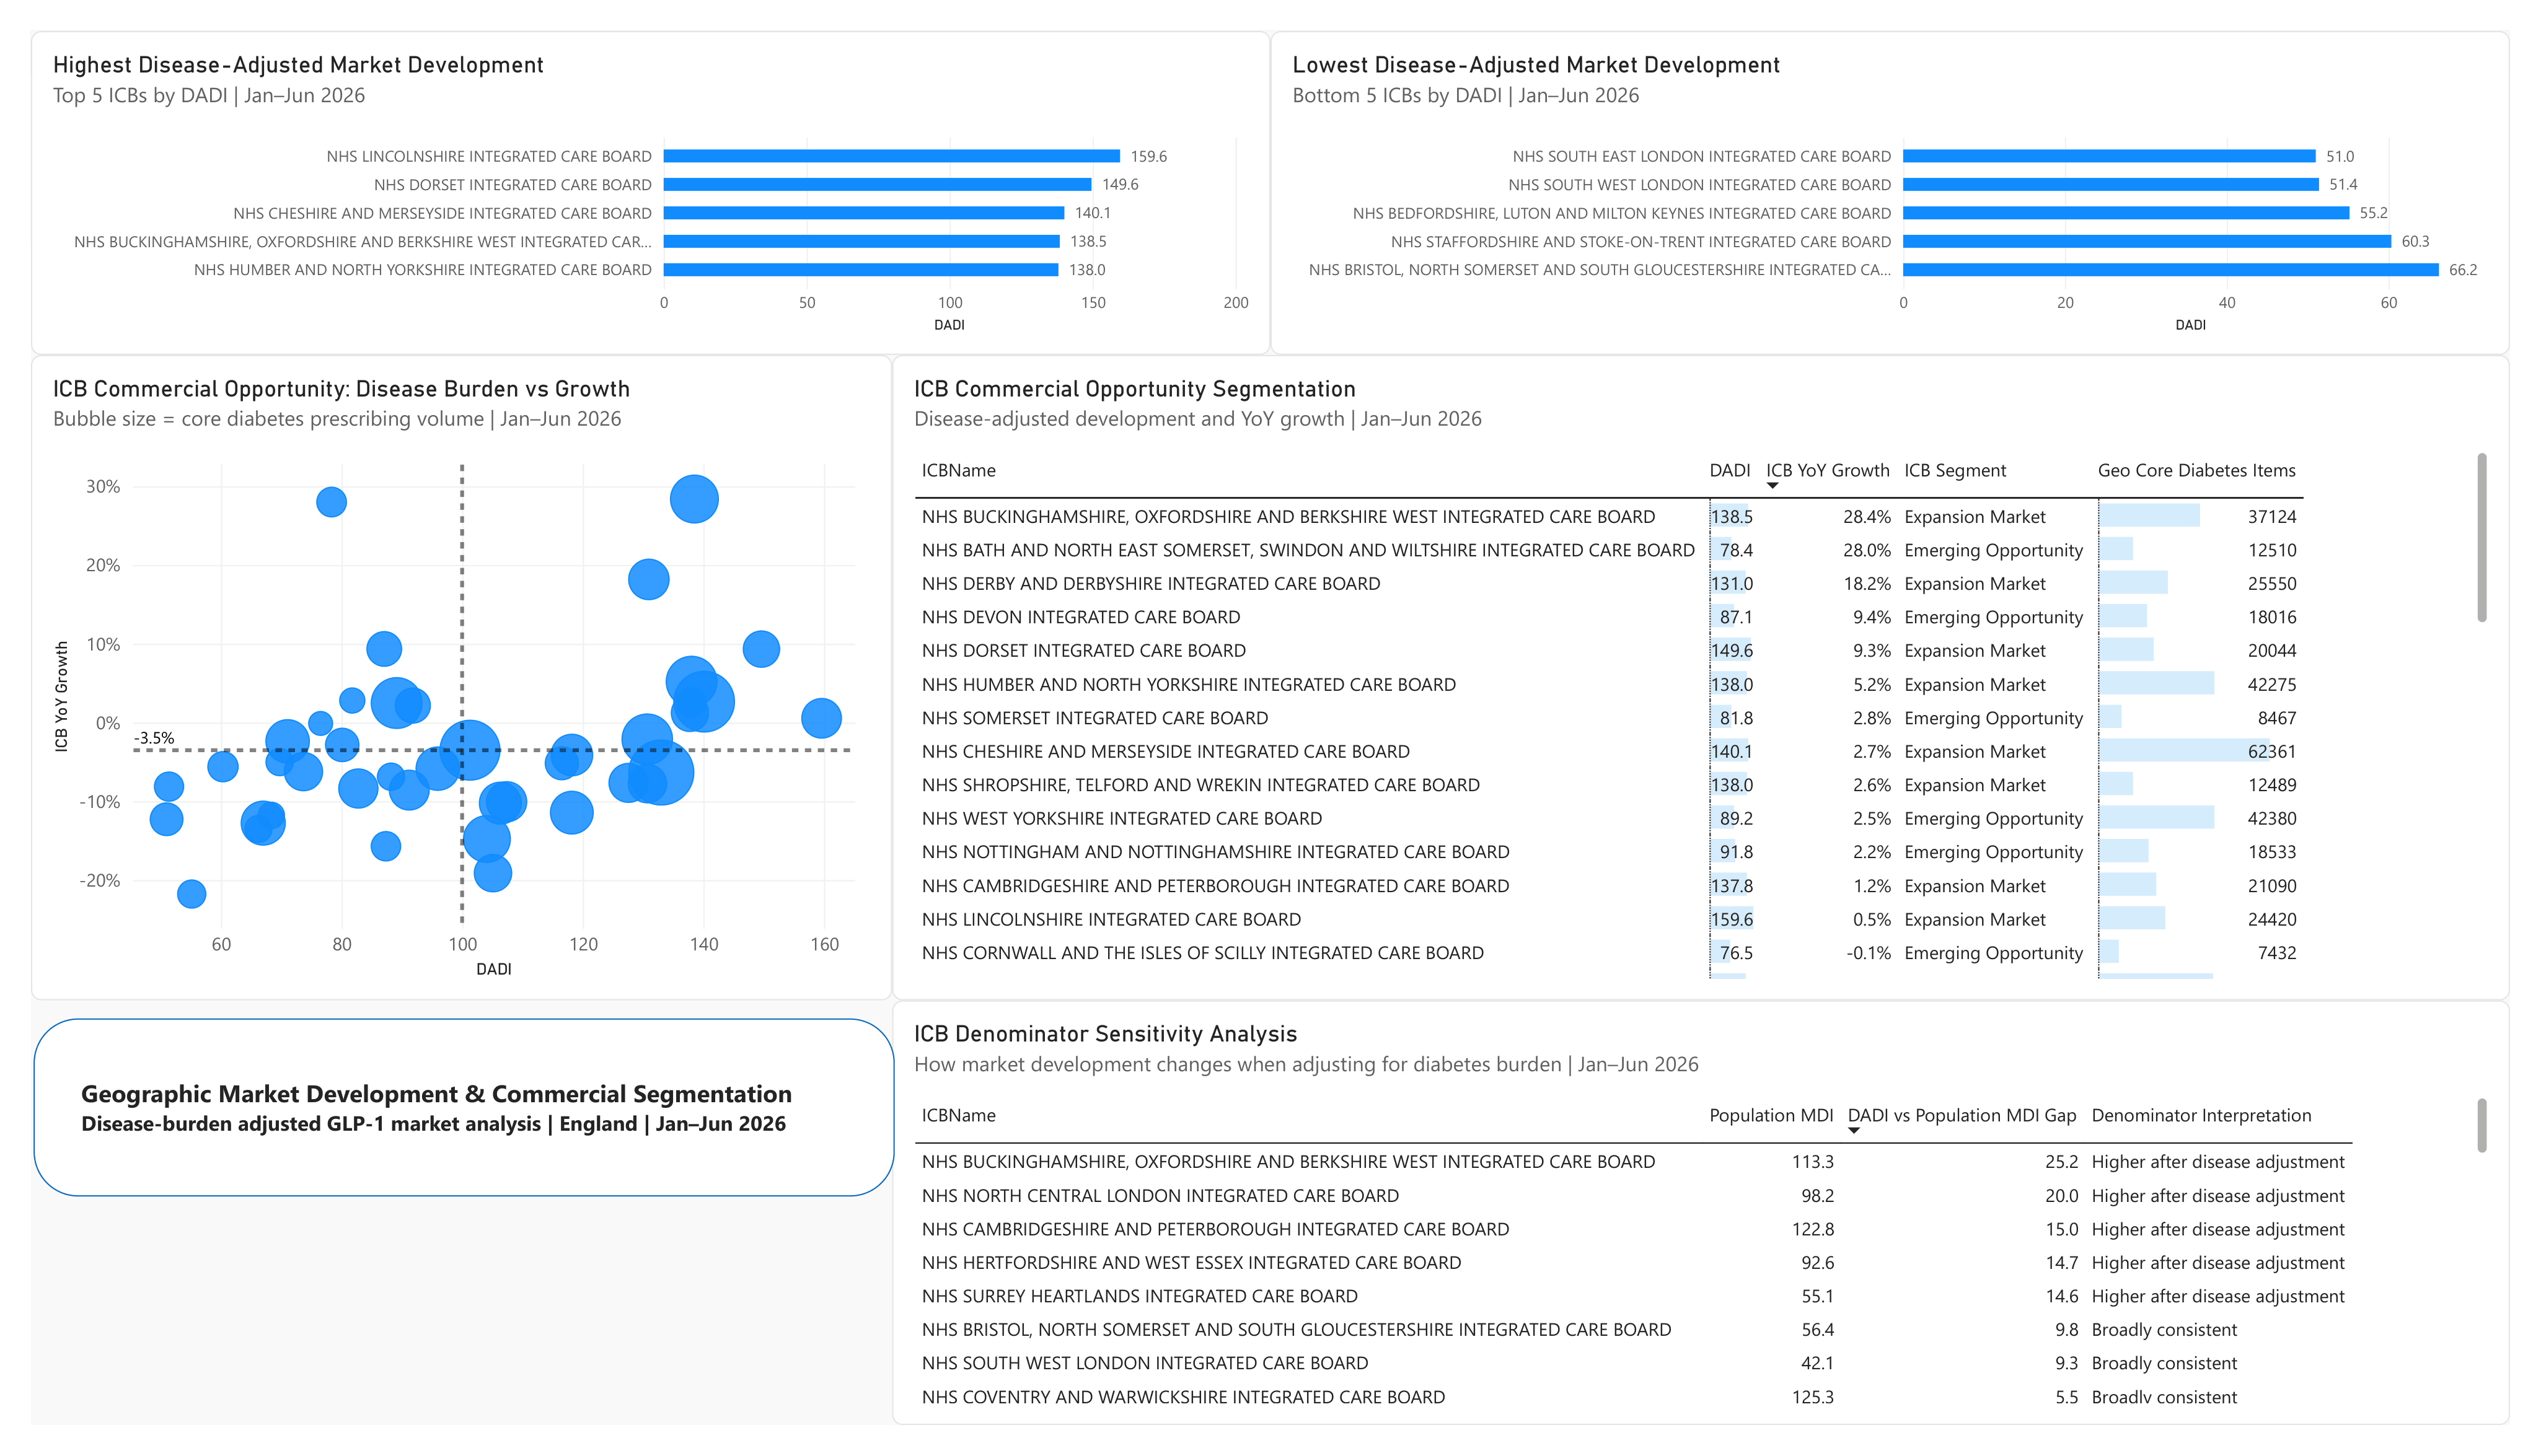

The page's visual inventory and layout, read from the dashboard file:
{"tool":"powerbi","page":{"name":"Geographic Opportunity","canvas":[1920,1080],"ordinal":1},"visuals":[{"type":"scatterChart","title":"ICB Commercial Opportunity: Disease Burden vs Growth","fields":{"Category":["Dim_Practice.ICBName"],"Size":["Measure Table.Geo Core Diabetes Items"],"X":["Measure Table.DADI"],"Y":["Measure Table.ICB YoY Growth"]},"box":[0,250.9,667.3,500],"z":0},{"type":"shape","box":[1.8,765.5,667.3,138.2],"z":0,"group":"g1"},{"type":"clusteredBarChart","title":"Highest Disease-Adjusted Market Development","fields":{"Category":["Dim_Practice.ICBName"],"Y":["Measure Table.DADI"]},"box":[0,0,960,250.9],"z":1000},{"type":"textbox","box":[38.5,810.1,594.5,65.5],"z":1000,"group":"g1"},{"type":"clusteredBarChart","title":"Lowest Disease-Adjusted Market Development","fields":{"Category":["Dim_Practice.ICBName"],"Y":["Measure Table.DADI"]},"box":[960,0,960,250.9],"z":2000},{"type":"tableEx","title":"ICB Commercial Opportunity Segmentation","fields":{"Values":["Dim_Practice.ICBName","Measure Table.DADI","Measure Table.ICB YoY Growth","Measure Table.ICB Segment","Measure Table.Geo Core Diabetes Items"]},"box":[667.3,250.9,1252.7,500],"z":3000},{"type":"tableEx","title":"ICB Denominator Sensitivity Analysis","fields":{"Values":["Dim_Practice.ICBName","Measure Table.Population MDI","Measure Table.DADI vs Population MDI Gap","Measure Table.Denominator Interpretation"]},"box":[667.3,750.9,1252.7,329.1],"z":4000},{"type":"group","id":"g1","title":"Group 1","box":[1.8,765.5,667.3,138.2],"z":5000}]}

Visuals, with their boxes on the page's 1920x1080 design canvas (x1, y1, x2, y2). These are canvas units, not pixel positions in the 2541x1456 screenshot, which may show the page scaled, cropped or inside an application window:
"ICB Commercial Opportunity: Disease Burden vs Growth" scatterChart: <box>0,251,667,751</box>
shape: <box>2,766,669,904</box>
"Highest Disease-Adjusted Market Development" clusteredBarChart: <box>0,0,960,251</box>
textbox: <box>38,810,633,876</box>
"Lowest Disease-Adjusted Market Development" clusteredBarChart: <box>960,0,1920,251</box>
"ICB Commercial Opportunity Segmentation" tableEx: <box>667,251,1920,751</box>
"ICB Denominator Sensitivity Analysis" tableEx: <box>667,751,1920,1080</box>
"Group 1" group: <box>2,766,669,904</box>
